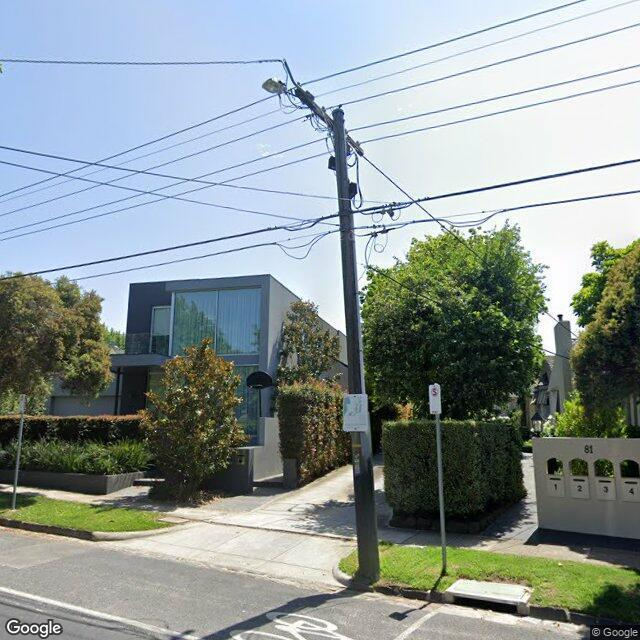crossarm: (296, 88, 364, 156)
streetlight: (262, 78, 296, 96)
timber-pole: (333, 109, 380, 581)
